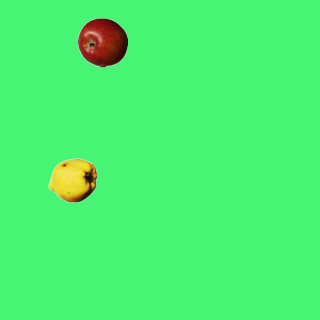Apple Braeburn: (77, 17, 127, 67)
Quince: (47, 155, 97, 205)
